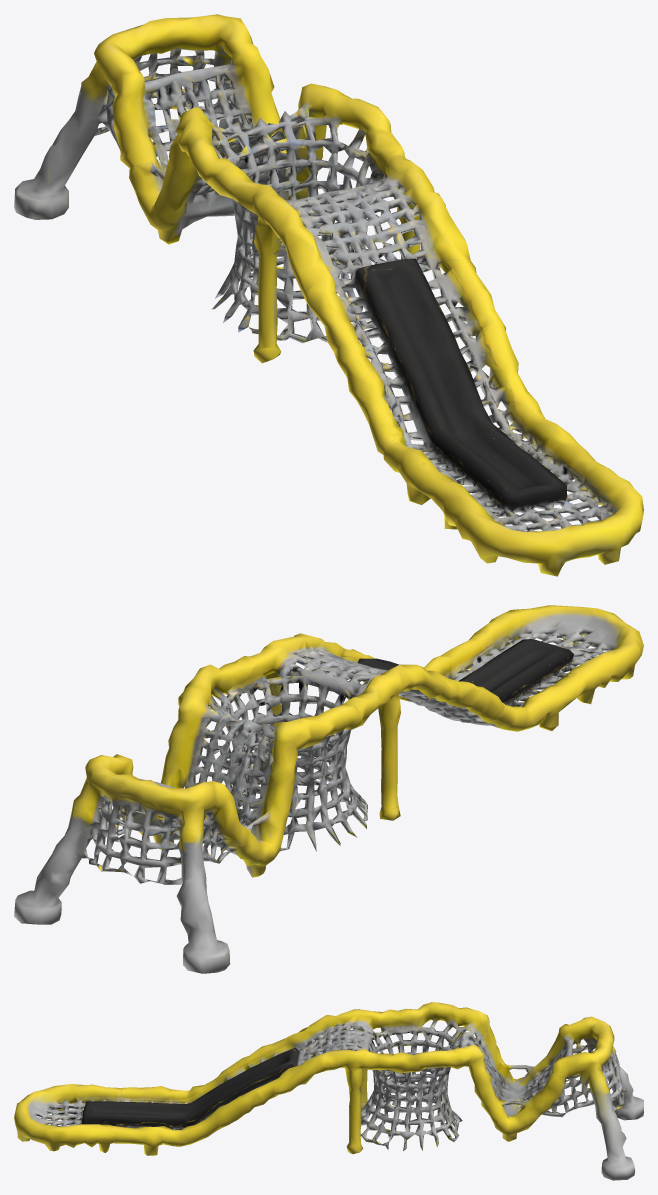
The model's file is malla1.obj.
3 renders of one model, top to bottom at view 1: azimuth 30°, elevation 25°; view 2: azimuth 150°, elevation 25°; view 3: azimuth 270°, elevation 25°, orthographic. The views are drawn at different scales.
Parts seen in each view (by area): view 1: escalar2_1110090244_texture; view 2: escalar2_1110090244_texture; view 3: escalar2_1110090244_texture.
Boxes of the visible parts, <box> form: escalar2_1110090244_texture: <box>14,14,643,576</box>; escalar2_1110090244_texture: <box>14,605,643,973</box>; escalar2_1110090244_texture: <box>14,1002,643,1180</box>.
Size of the model in its own units: 22.41 by 15.67 by 77.04.
1 material, 1 textured.
